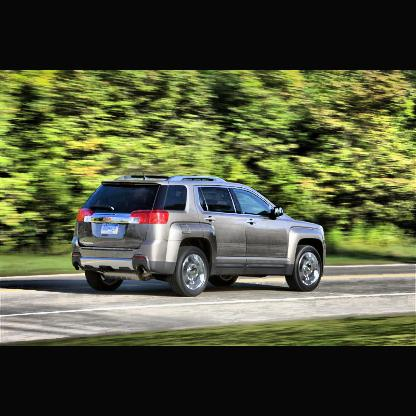GMC Terrain SUV 2012: (72, 172, 327, 296)
